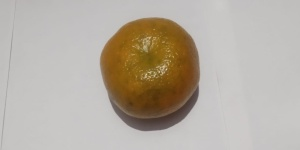BAD: (96, 16, 201, 120)
